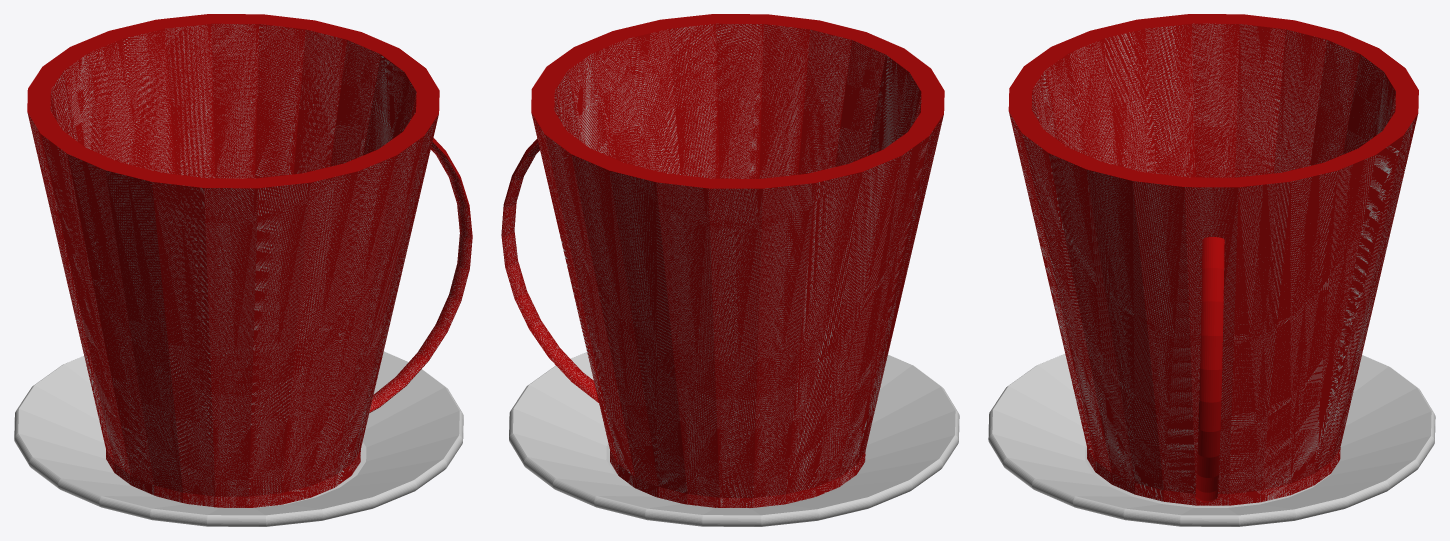
3 renders of one model, left to right at view 1: azimuth 30°, elevation 25°; view 2: azimuth 150°, elevation 25°; view 3: azimuth 270°, elevation 25°, orthographic.
Visible parts, largest first — view 1: mesh4.001_mesh4-geometry, mesh5.001_mesh5-geometry, mesh1.001_mesh1-geometry; view 2: mesh4.001_mesh4-geometry, mesh5.001_mesh5-geometry, mesh1.001_mesh1-geometry; view 3: mesh4.001_mesh4-geometry, mesh5.001_mesh5-geometry, mesh1.001_mesh1-geometry.
Boxes of the visible parts, bbox=[...] form: mesh4.001_mesh4-geometry: bbox=[27, 14, 439, 507]; mesh5.001_mesh5-geometry: bbox=[14, 351, 463, 526]; mesh1.001_mesh1-geometry: bbox=[369, 138, 472, 412]; mesh4.001_mesh4-geometry: bbox=[531, 14, 944, 508]; mesh5.001_mesh5-geometry: bbox=[509, 352, 959, 526]; mesh1.001_mesh1-geometry: bbox=[501, 139, 598, 402]; mesh4.001_mesh4-geometry: bbox=[1008, 14, 1418, 505]; mesh5.001_mesh5-geometry: bbox=[988, 354, 1435, 526]; mesh1.001_mesh1-geometry: bbox=[1194, 237, 1224, 502].
Bounding box in the file's own units: 0.6312 × 0.5175 × 0.5777.
